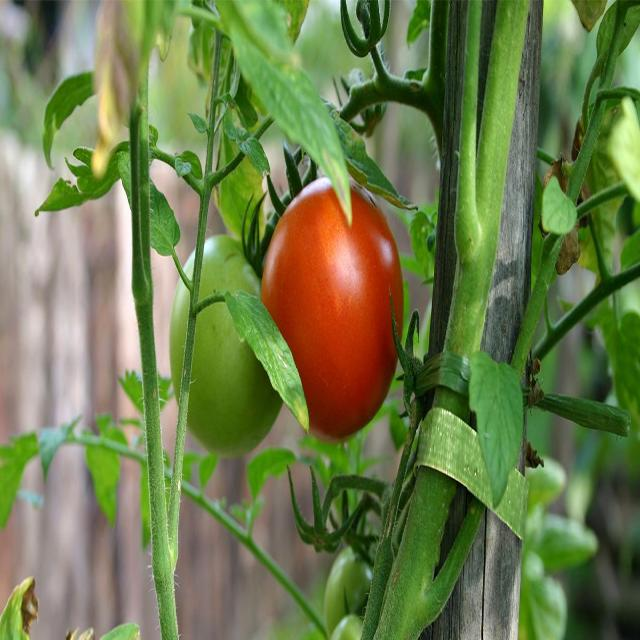level 2: (169, 233, 285, 457)
level 6: (260, 176, 402, 442)
